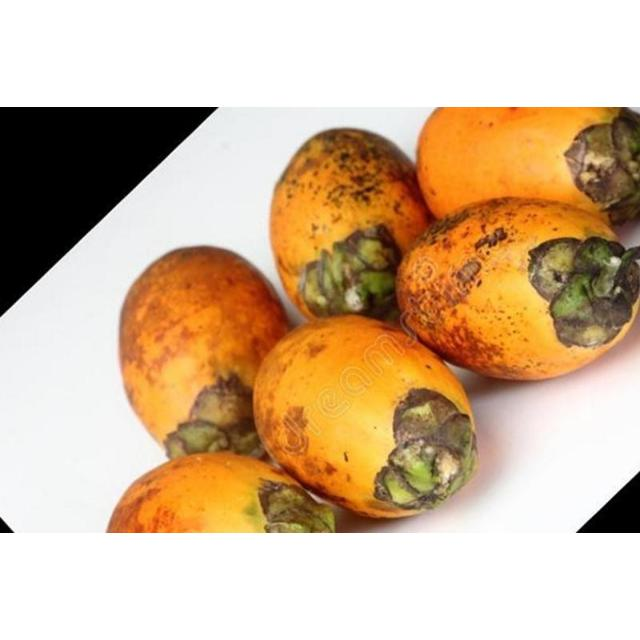good: (104, 108, 639, 533)
